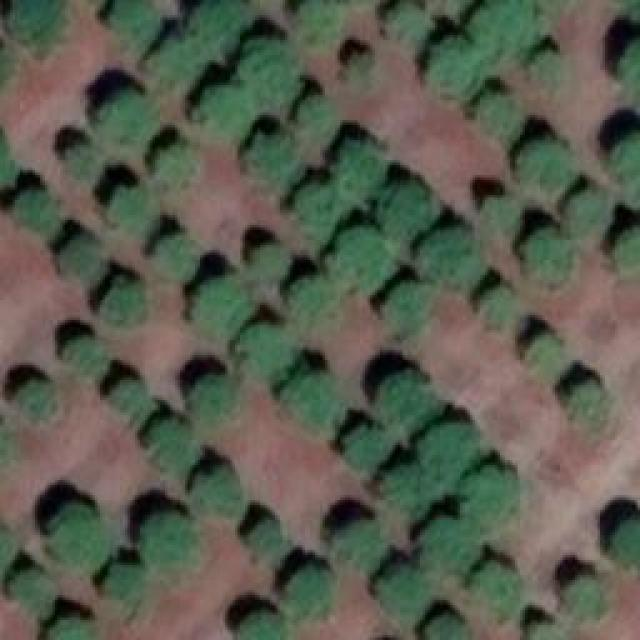Tree: (43, 500, 117, 571), (98, 80, 167, 152), (132, 508, 204, 570), (190, 275, 254, 339), (290, 375, 352, 440), (330, 225, 396, 286), (238, 35, 299, 99), (465, 555, 524, 621), (238, 325, 303, 382), (180, 365, 238, 428), (282, 555, 339, 619), (425, 42, 488, 99), (425, 420, 487, 477), (378, 185, 438, 242), (152, 32, 211, 89), (140, 420, 201, 475), (100, 565, 163, 618), (512, 128, 571, 182), (478, 0, 538, 53), (250, 135, 308, 189), (8, 0, 68, 52), (377, 280, 434, 334), (338, 135, 390, 194), (465, 465, 519, 521), (193, 465, 245, 523), (190, 0, 251, 49), (380, 373, 436, 426), (290, 183, 349, 233), (375, 563, 427, 617), (383, 465, 432, 521), (475, 90, 522, 148), (195, 90, 253, 136), (423, 520, 475, 571), (10, 568, 57, 624), (523, 334, 573, 386), (290, 268, 339, 321), (343, 415, 391, 467), (338, 518, 390, 566), (13, 383, 66, 430), (103, 188, 154, 235), (105, 0, 159, 44), (12, 183, 59, 233), (100, 287, 151, 333), (530, 233, 575, 285), (565, 186, 618, 230), (480, 280, 528, 328), (58, 235, 107, 282), (155, 238, 203, 285), (240, 515, 290, 560), (430, 238, 473, 290), (152, 143, 197, 192), (110, 377, 157, 423), (575, 380, 614, 433), (563, 573, 604, 621), (297, 0, 343, 41), (483, 195, 531, 234), (293, 103, 337, 144), (67, 345, 114, 383), (388, 5, 428, 49), (408, 605, 458, 640), (617, 35, 640, 105), (248, 240, 291, 276), (68, 140, 105, 181), (605, 513, 640, 552), (343, 50, 377, 89), (243, 610, 283, 640), (615, 232, 640, 280), (615, 145, 640, 188), (58, 615, 98, 639), (530, 620, 565, 640)
